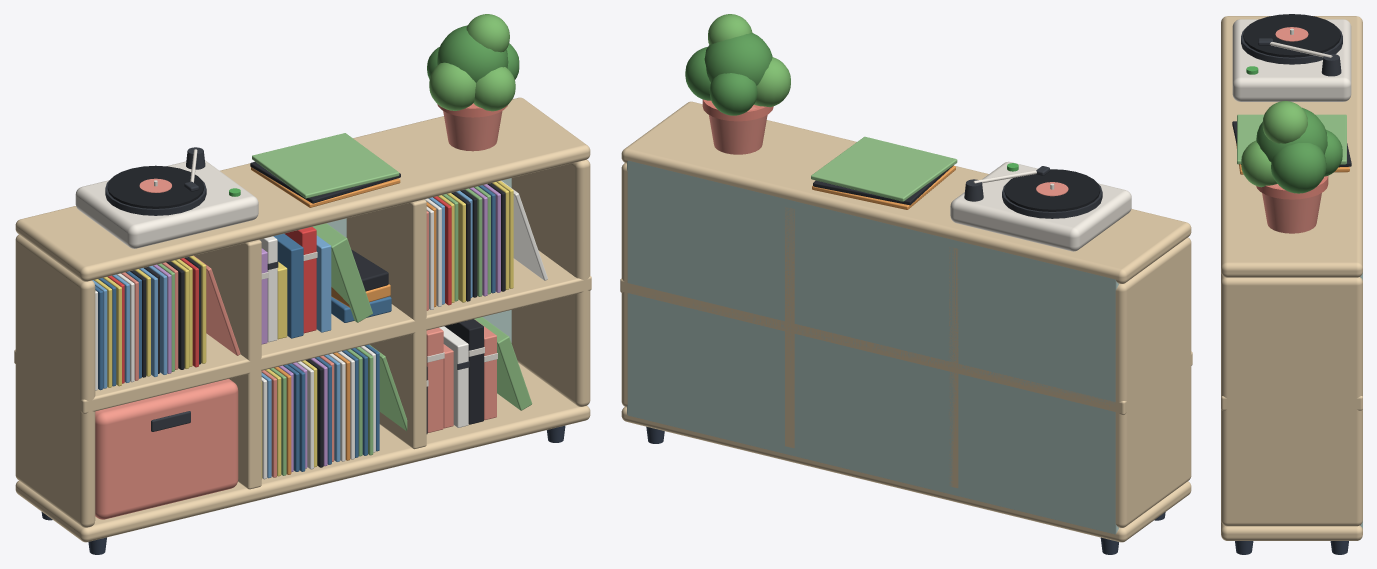
File: cartoon_shelf.glb
The picture shows the model from 3 angles, left to right: view 1: azimuth 30°, elevation 25°; view 2: azimuth 150°, elevation 25°; view 3: azimuth 270°, elevation 25°; orthographic projection.
Parts seen in each view (by area): view 1: ShelfBoard3, ShelfUpright1, ShelfBin, ShelfUpright4, ShelfBoard1, ShelfBoard2, ShelfUpright3, ShelfUpright2, TurntablePlinth, ShelfTopRecord3, TurntableRecord, ShelfBookALeaning (+36 smaller); view 2: ShelfBack, ShelfBoard3, ShelfUpright1, TurntablePlinth, ShelfTopRecord3, ShelfBoard2, ShelfBoard1, TurntableRecord, PlantLeaves1, ShelfUpright3, ShelfUpright2, PlantPot (+9 smaller); view 3: ShelfUpright4, ShelfBoard3, TurntablePlinth, TurntableRecord, PlantLeaves3, ShelfBoard1, PlantPot, PlantLeaves6, ShelfTopRecord3, PlantLeaves1, ShelfBoard2, PlantLeaves4 (+8 smaller).
Boxes of the visible parts, x1=… form: ShelfBoard3: x1=15, y1=97, x2=590, y2=281; ShelfUpright1: x1=15, y1=234, x2=95, y2=527; ShelfBin: x1=95, y1=379, x2=238, y2=519; ShelfUpright4: x1=511, y1=159, x2=590, y2=406; ShelfBoard1: x1=15, y1=363, x2=590, y2=542; ShelfBoard2: x1=14, y1=250, x2=591, y2=413; ShelfUpright3: x1=346, y1=199, x2=426, y2=449; ShelfUpright2: x1=194, y1=240, x2=261, y2=489; TurntablePlinth: x1=75, y1=160, x2=258, y2=248; ShelfTopRecord3: x1=252, y1=133, x2=399, y2=198; TurntableRecord: x1=107, y1=165, x2=204, y2=208; ShelfBookALeaning: x1=312, y1=223, x2=372, y2=322; ShelfBack: x1=627, y1=160, x2=1118, y2=534; ShelfBoard3: x1=621, y1=101, x2=1191, y2=283; ShelfUpright1: x1=1115, y1=237, x2=1191, y2=527; TurntablePlinth: x1=950, y1=161, x2=1131, y2=251; ShelfTopRecord3: x1=811, y1=136, x2=957, y2=201; ShelfBoard2: x1=620, y1=278, x2=1192, y2=415; ShelfBoard1: x1=621, y1=407, x2=1191, y2=542; TurntableRecord: x1=1004, y1=169, x2=1100, y2=211; PlantLeaves1: x1=704, y1=33, x2=772, y2=85; ShelfUpright3: x1=785, y1=207, x2=794, y2=448; ShelfUpright2: x1=949, y1=247, x2=958, y2=488; PlantPot: x1=709, y1=106, x2=767, y2=154; ShelfUpright4: x1=1221, y1=276, x2=1362, y2=526; ShelfBoard3: x1=1221, y1=16, x2=1362, y2=277; TurntablePlinth: x1=1232, y1=19, x2=1351, y2=101; TurntableRecord: x1=1243, y1=14, x2=1340, y2=57; PlantLeaves3: x1=1271, y1=143, x2=1326, y2=193; ShelfBoard1: x1=1221, y1=521, x2=1362, y2=540; PlantPot: x1=1262, y1=177, x2=1324, y2=233; PlantLeaves6: x1=1262, y1=101, x2=1307, y2=143; ShelfTopRecord3: x1=1237, y1=114, x2=1346, y2=164; PlantLeaves1: x1=1256, y1=107, x2=1327, y2=161; ShelfBoard2: x1=1221, y1=396, x2=1362, y2=410; PlantLeaves4: x1=1241, y1=140, x2=1277, y2=187.
Bounding box in the file's own units: 1.8 × 1.42 × 0.43.
